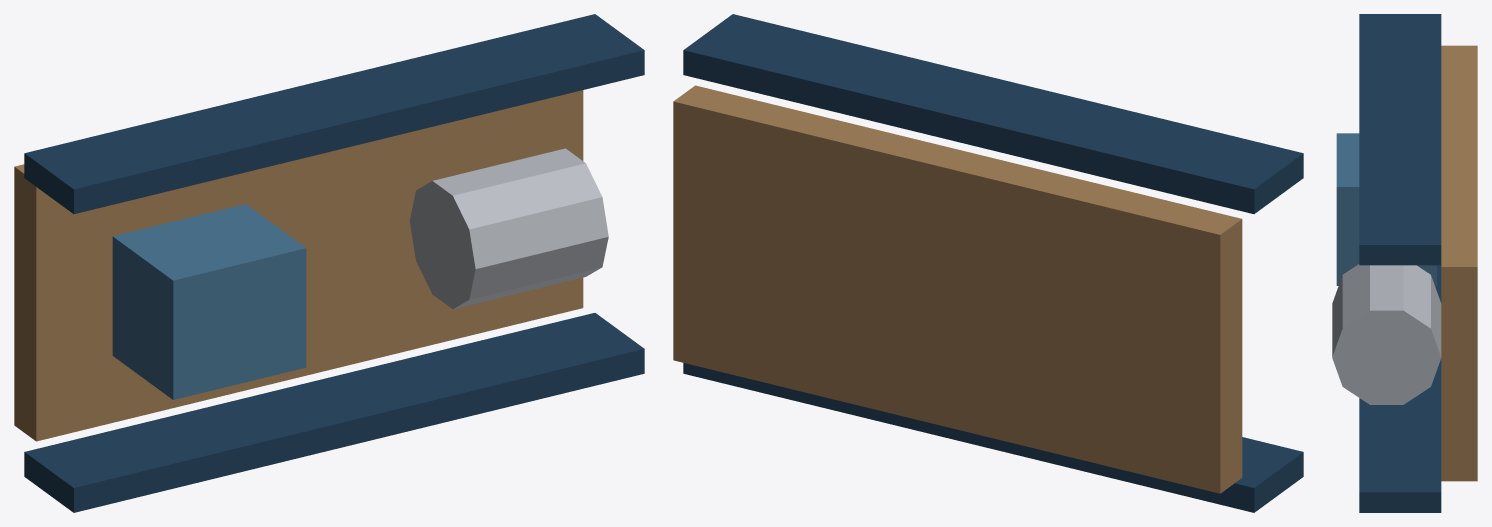
Rendered from 08_skyship_deck.glb.
The picture shows the model from 3 angles, left to right: view 1: azimuth 30°, elevation 25°; view 2: azimuth 150°, elevation 25°; view 3: azimuth 270°, elevation 25°; orthographic projection. The views are drawn at different scales.
Visible parts, largest first — view 1: deck_insert, rail_right, rail_left, cargo_crate, winch; view 2: deck_insert, rail_right, rail_left; view 3: rail_right, deck_insert, winch, rail_left, cargo_crate.
Boxes of the visible parts, box(x1,y1,x2,y2) form: deck_insert: box(14, 90, 583, 441); rail_right: box(24, 14, 644, 214); rail_left: box(24, 313, 644, 512); cargo_crate: box(112, 204, 306, 399); winch: box(409, 148, 608, 309); deck_insert: box(673, 85, 1242, 493); rail_right: box(683, 14, 1303, 213); rail_left: box(683, 363, 1303, 512); rail_right: box(1359, 14, 1441, 265); deck_insert: box(1441, 45, 1477, 481); winch: box(1332, 264, 1441, 404); rail_left: box(1359, 265, 1441, 512); cargo_crate: box(1336, 133, 1436, 285).
Bounding box in the file's own units: 1.32 × 0.715 × 0.352.
